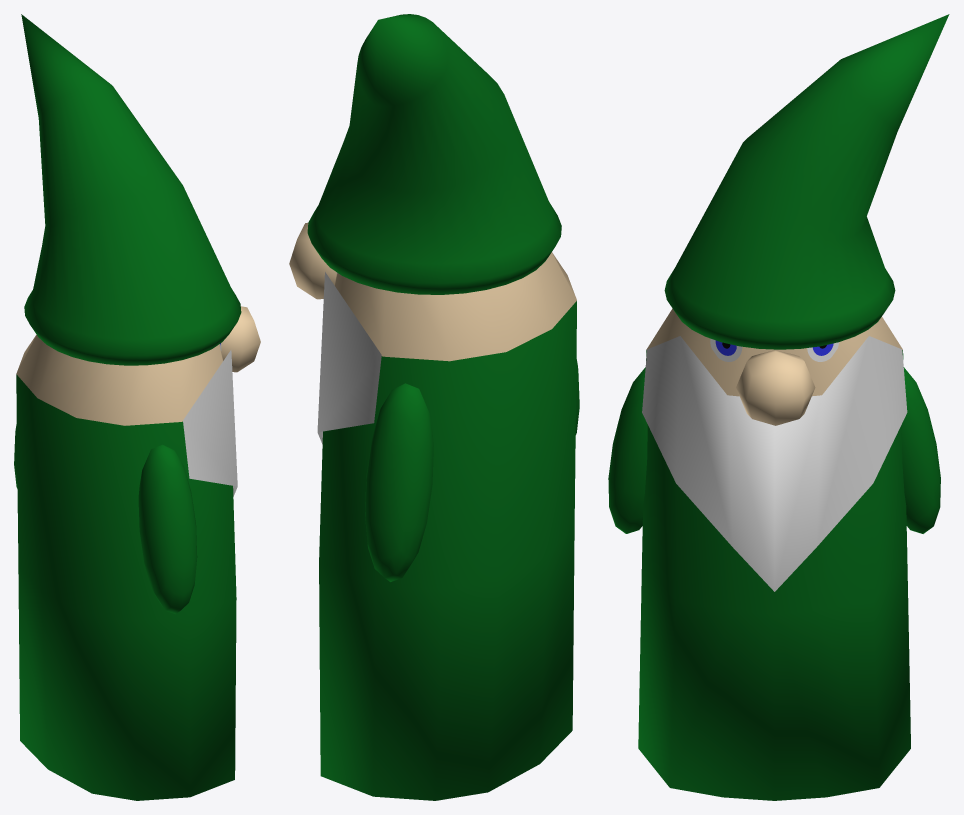
File: GronNise.gltf
The picture shows the model from 3 angles, left to right: view 1: azimuth 30°, elevation 25°; view 2: azimuth 150°, elevation 25°; view 3: azimuth 270°, elevation 25°; orthographic projection. The views are drawn at different scales.
Parts seen in each view (by area): view 1: GrønNise; view 2: GrønNise; view 3: GrønNise.
Boxes of the visible parts, x1,y1,x2,y2 form: GrønNise: (14,14,260,800); GrønNise: (289,14,579,800); GrønNise: (608,14,949,800).
Size of the model in its own units: 5.67 by 17.11 by 7.21.
